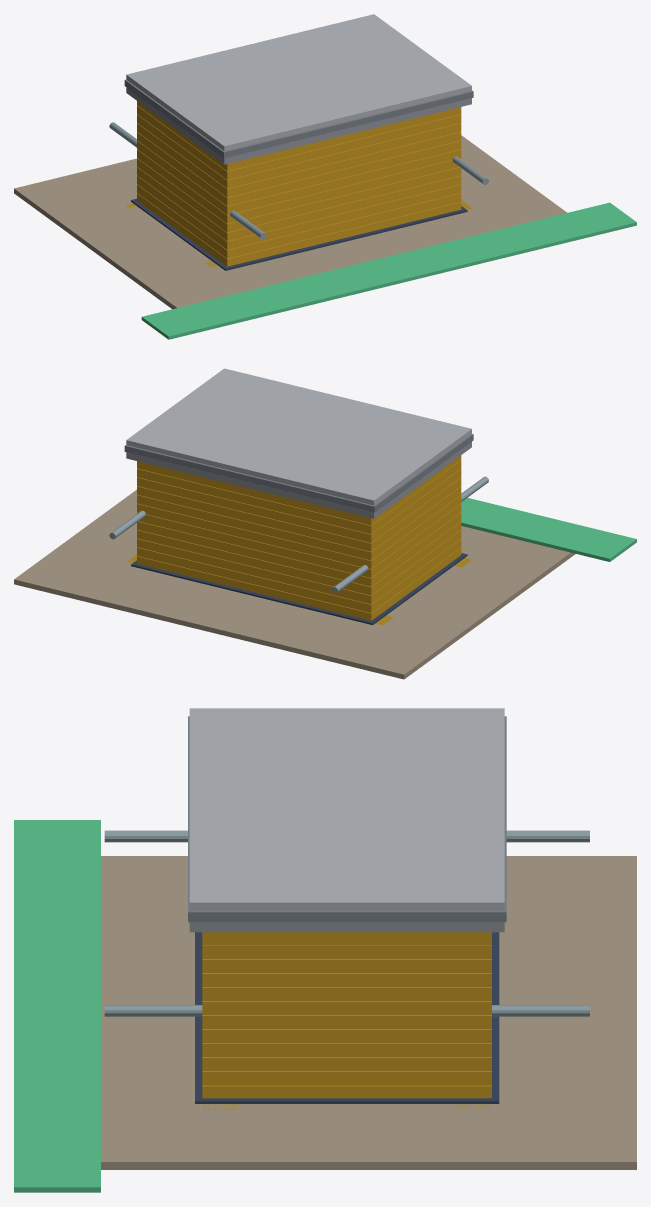
The model's file is stage_07_complete.glb.
3 views of the same model, one above another, from view 1: azimuth 30°, elevation 25°; view 2: azimuth 150°, elevation 25°; view 3: azimuth 270°, elevation 25° (orthographic). The views are drawn at different scales.
Parts seen in each view (by area): view 1: world; view 2: world; view 3: world.
Boxes of the visible parts, x1,y1,x2,y2 form: world: [14, 14, 636, 339]; world: [14, 368, 636, 679]; world: [14, 708, 636, 1192].
Size of the model in its own units: 12 by 3.9 by 8.6.
